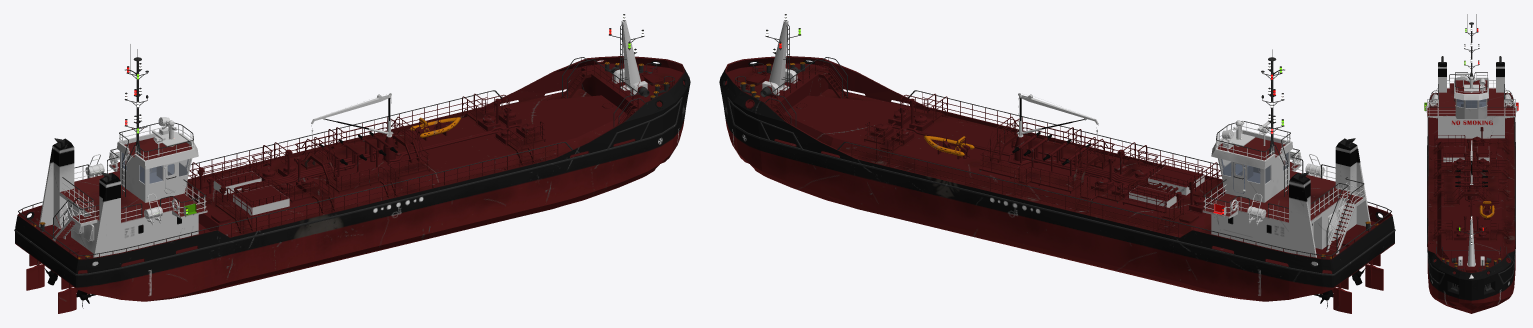
The model's file is TANKER_800_grp.fbx.
The picture shows the model from 3 angles, left to right: view 1: azimuth 30°, elevation 25°; view 2: azimuth 150°, elevation 25°; view 3: azimuth 270°, elevation 25°; orthographic projection. The views are drawn at different scales.
Parts seen in each view (by area): view 1: Hool_geo, Deck_geo, cabin_geo, Boat, Gls_ass_geo; view 2: Hool_geo, Deck_geo, cabin_geo, Boat, Gls_ass_geo; view 3: Deck_geo, cabin_geo, Hool_geo, Gls_ass_geo, Boat.
Boxes of the visible parts, left/top/right/bottom form: Hool_geo: left=14, top=56, right=690, bottom=313; Deck_geo: left=18, top=14, right=684, bottom=273; cabin_geo: left=39, top=44, right=207, bottom=265; Boat: left=410, top=117, right=460, bottom=140; Gls_ass_geo: left=121, top=152, right=190, bottom=183; Hool_geo: left=719, top=56, right=1395, bottom=313; Deck_geo: left=725, top=14, right=1391, bottom=273; cabin_geo: left=1202, top=49, right=1371, bottom=265; Boat: left=924, top=135, right=974, bottom=159; Gls_ass_geo: left=1219, top=152, right=1288, bottom=183; Deck_geo: left=1427, top=90, right=1515, bottom=274; cabin_geo: left=1424, top=14, right=1518, bottom=138; Hool_geo: left=1427, top=93, right=1515, bottom=313; Gls_ass_geo: left=1456, top=82, right=1486, bottom=107; Boat: left=1479, top=201, right=1494, bottom=219.
Bounding box in the file's own units: 4666 × 1627 × 958.
